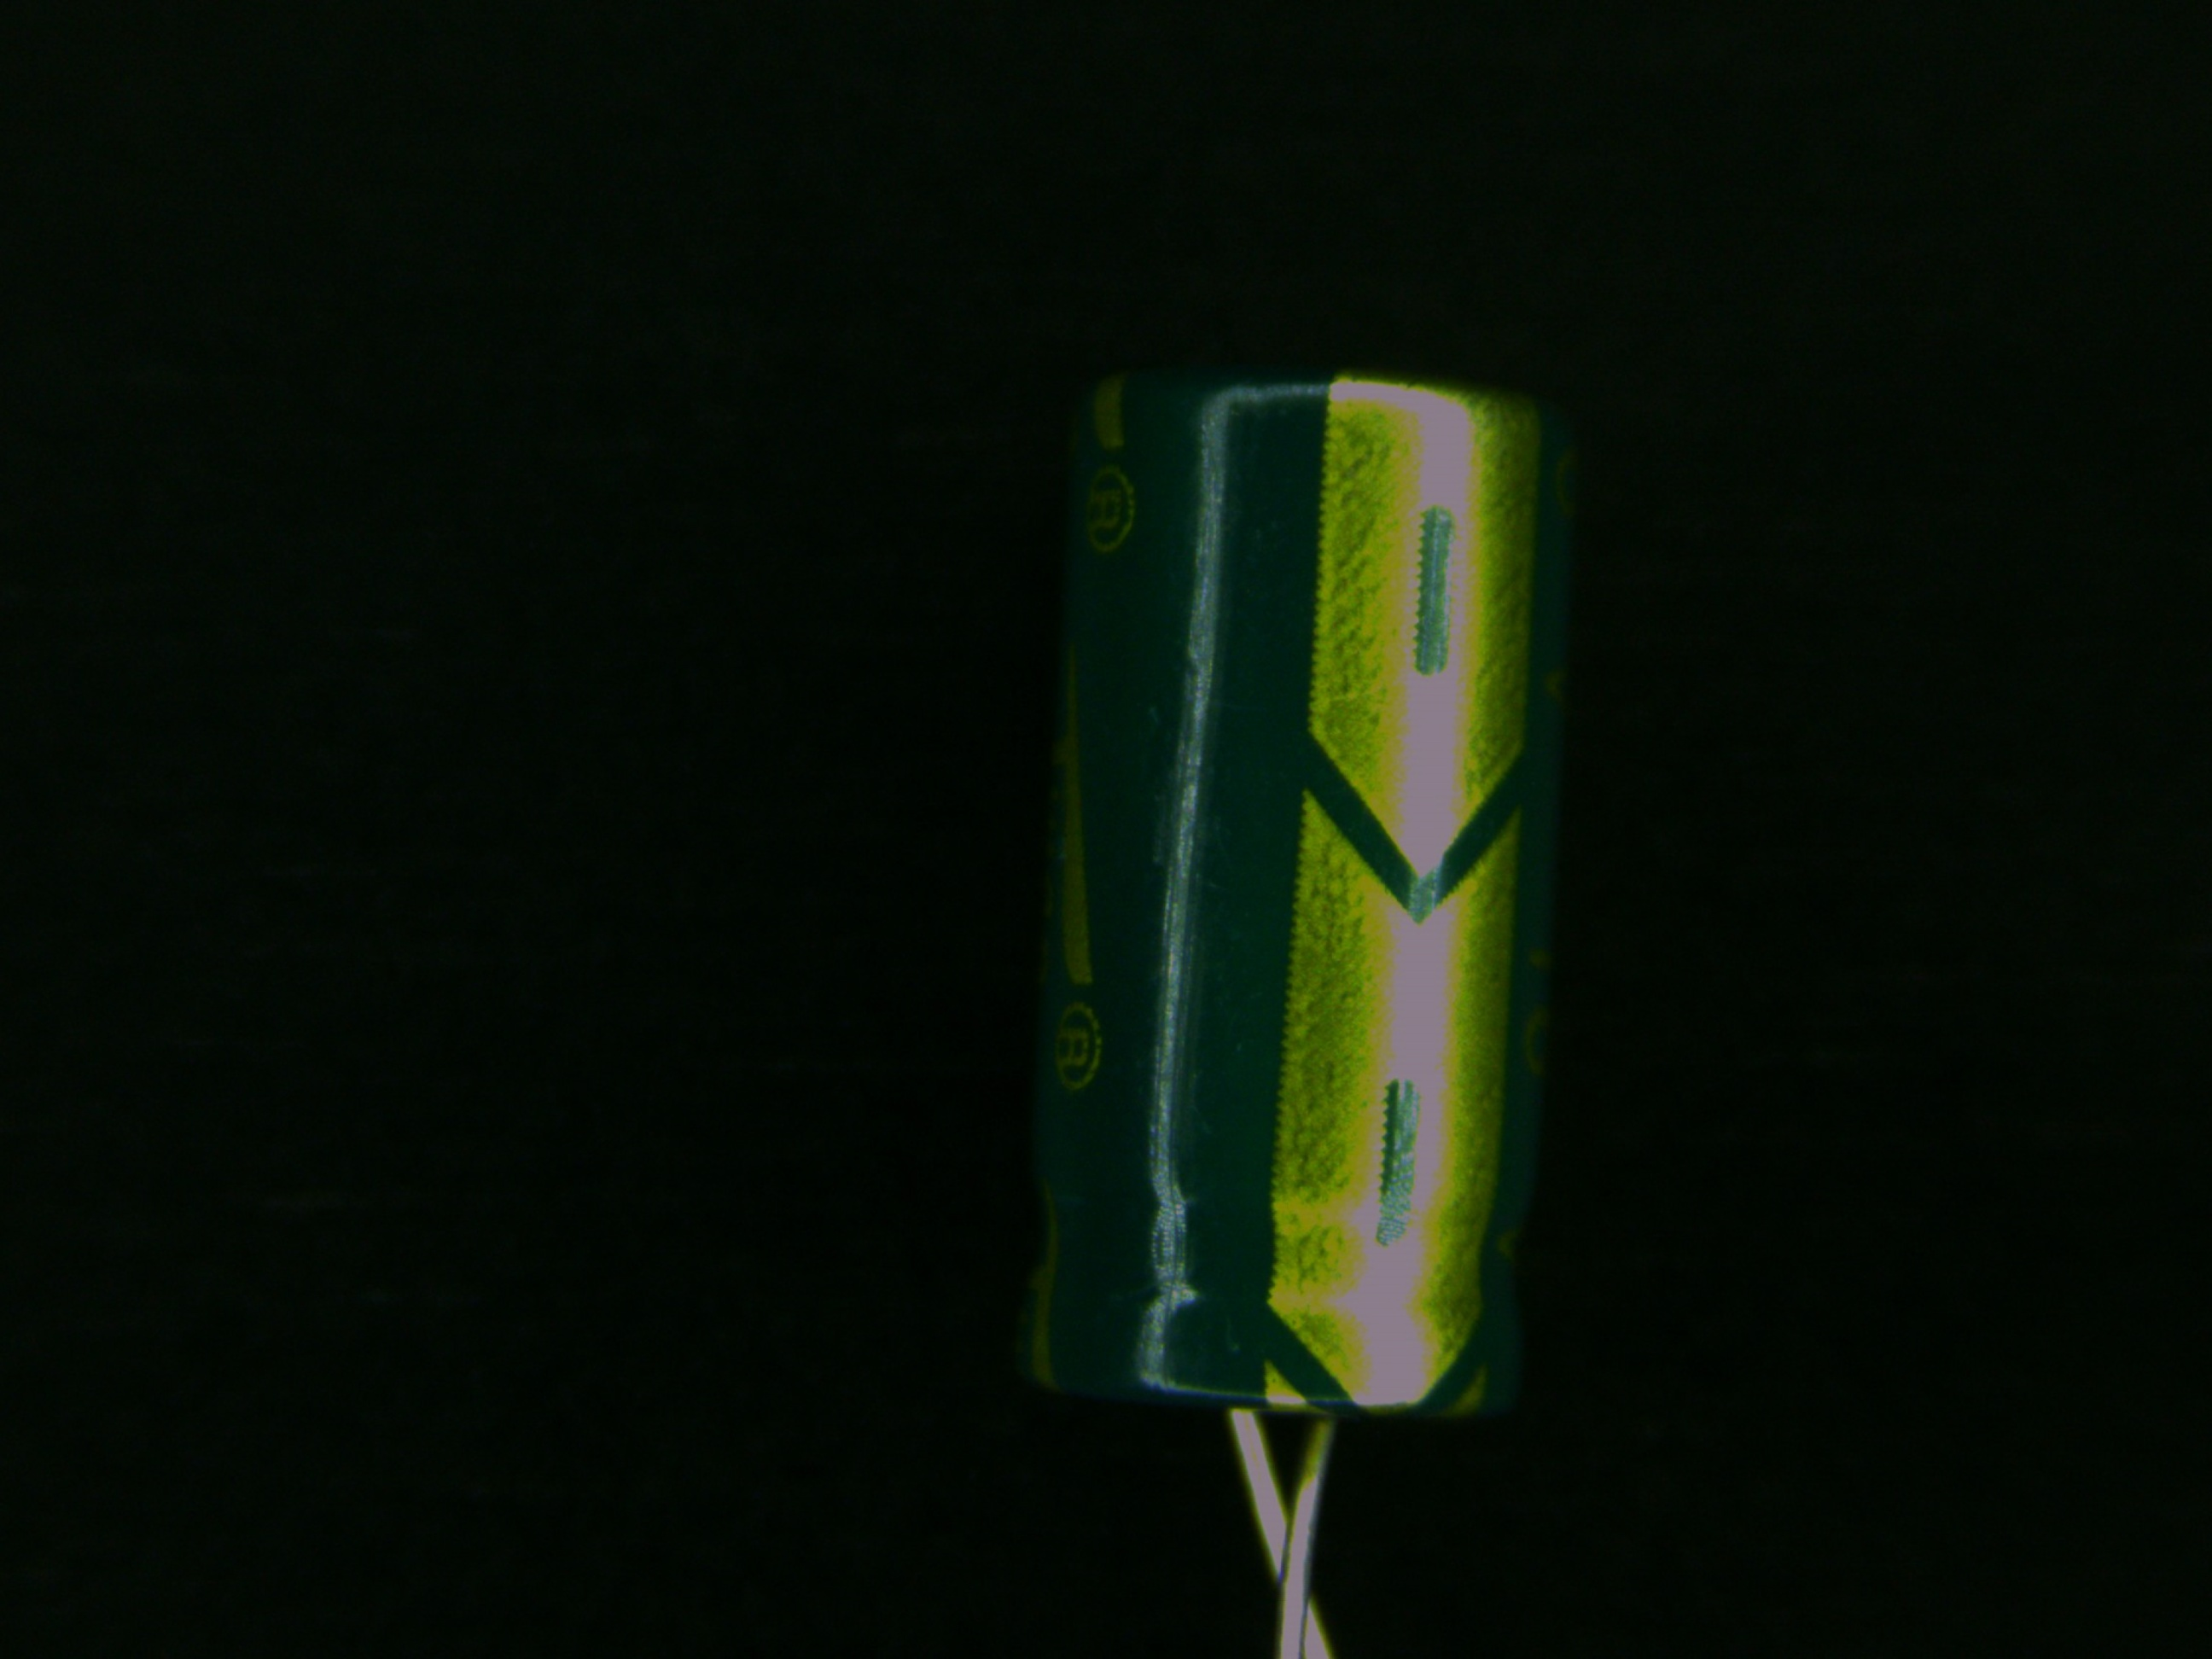c1: (1012, 366, 1581, 1520)
